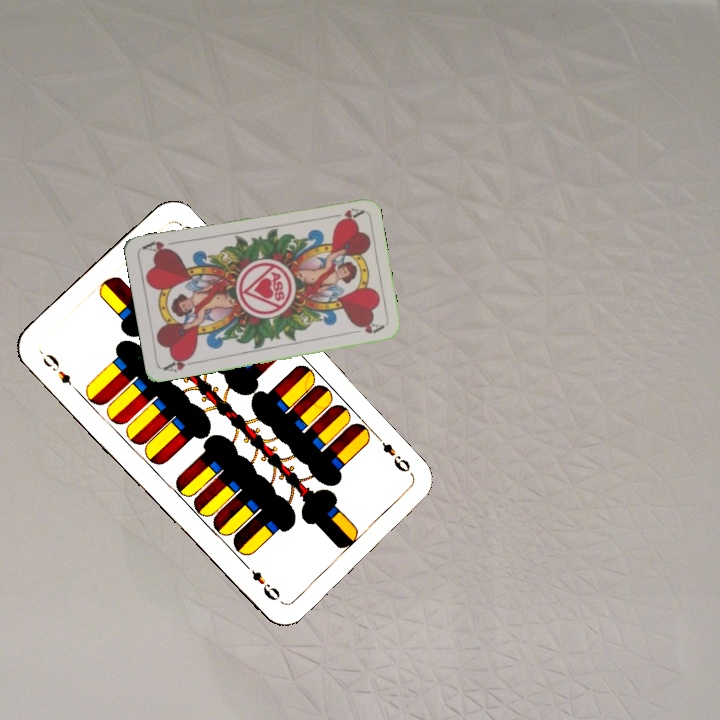E9: (372, 431, 416, 479), (38, 350, 74, 388)
HA: (160, 352, 200, 374), (324, 204, 365, 223)
